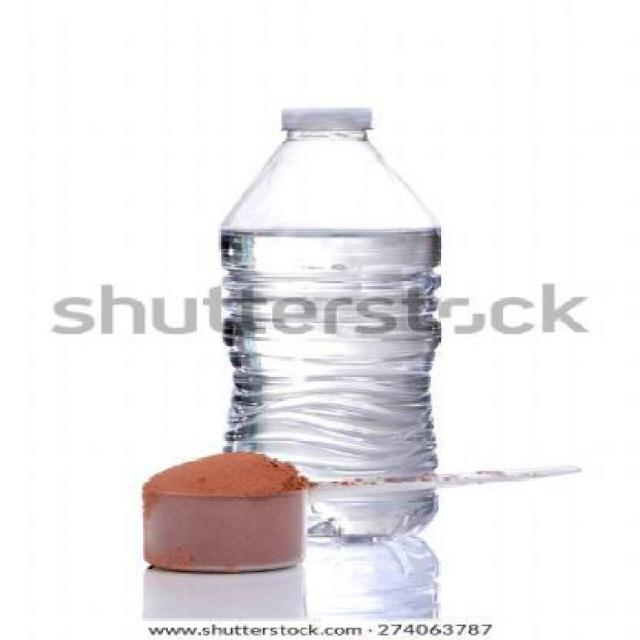bottle: (174, 72, 466, 606)
